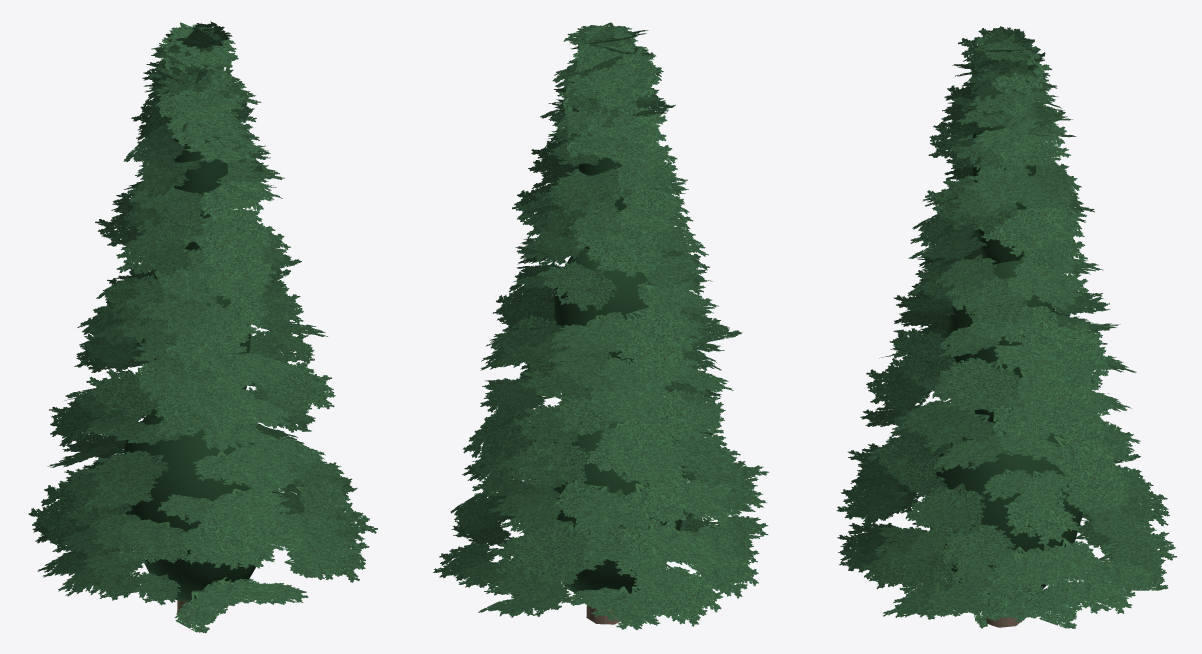
File: GEN_CONIFERA_1.glb
3 renders of one model, left to right at view 1: azimuth 30°, elevation 25°; view 2: azimuth 150°, elevation 25°; view 3: azimuth 270°, elevation 25°, orthographic.
Parts seen in each view (by area): view 1: Arv_GEN_CONIFERA_lod1; view 2: Arv_GEN_CONIFERA_lod1; view 3: Arv_GEN_CONIFERA_lod1.
Boxes of the visible parts, box(x1,y1,x2,y2) form: Arv_GEN_CONIFERA_lod1: box(28, 21, 377, 633); Arv_GEN_CONIFERA_lod1: box(433, 22, 768, 630); Arv_GEN_CONIFERA_lod1: box(836, 26, 1176, 628).
Bounding box in the file's own units: 5.65 × 10.19 × 5.79.
Materials: 3 (2 with a texture image).
